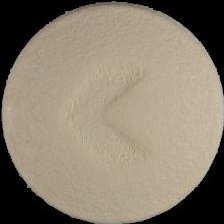21695-738: (0, 0, 224, 224)
